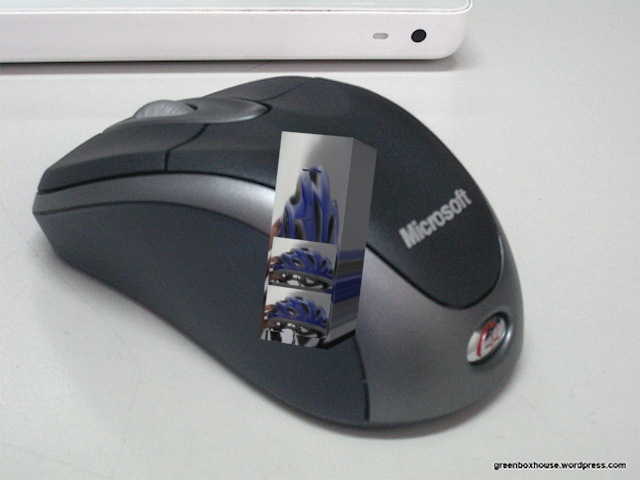file_cabinet: (256, 129, 384, 352)
